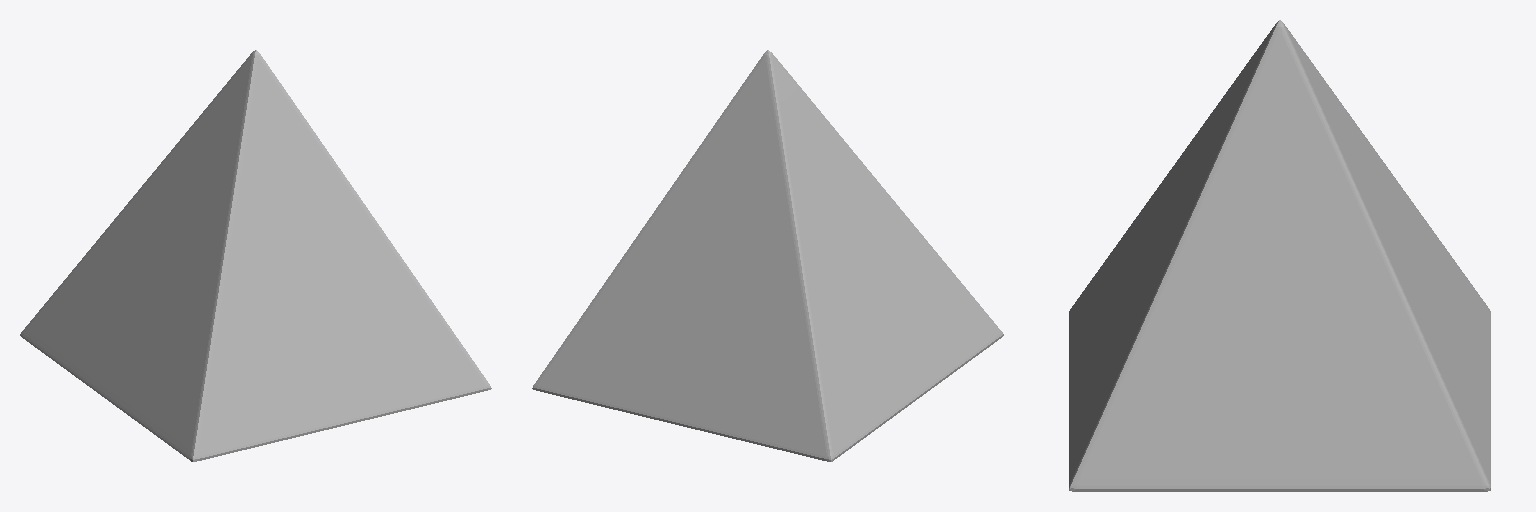
URDF robot description (root):
<robot name="root">
  <link name="object">
    <visual>
      <origin xyz="0 0 0" rpy="0 0 0"/>
      <geometry>
        <mesh filename="coacd_convex_piece_0.obj" scale="1.0000E+00 1.0000E+00 1.0000E+00"/>
      </geometry>
      <material name="">
        <color rgba="7.50E-01 7.50E-01 7.50E-01 1"/>
      </material>
    </visual>
    <collision>
      <origin xyz="0 0 0" rpy="0 0 0"/>
      <geometry>
        <mesh filename="coacd_convex_piece_0.obj" scale="1.0000E+00 1.0000E+00 1.0000E+00"/>
      </geometry>
    </collision>
  </link>
</robot>

--- Render facts (derived) ---
The picture shows the robot from 3 angles, left to right: view 1: azimuth 30°, elevation 25°; view 2: azimuth 150°, elevation 25°; view 3: azimuth 270°, elevation 25°; orthographic projection.
Robot: root — 1 links, 0 joints (none); root link object; default pose: all joints at 0.
Visible links, largest first — view 1: object; view 2: object; view 3: object.
Link boxes in pixels (bbox=[...]): object: bbox=[20, 50, 491, 461]; object: bbox=[532, 50, 1003, 461]; object: bbox=[1069, 20, 1490, 491].
Size in the robot's own frame: 0.0403 by 0.0403 by 0.0403 metres.
1 mesh visuals loaded from 1 distinct referenced files (1 OBJ).
